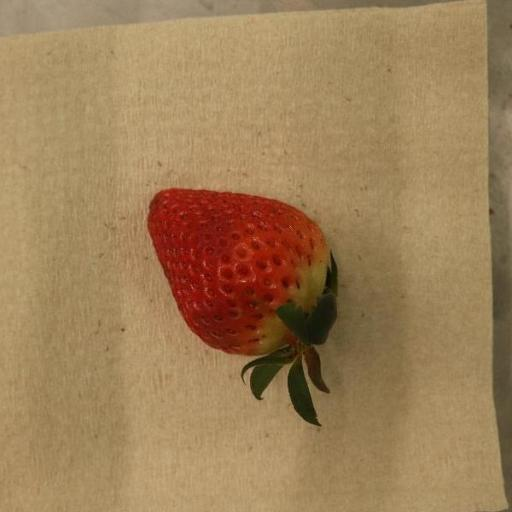Strawberry: (147, 189, 339, 428)
